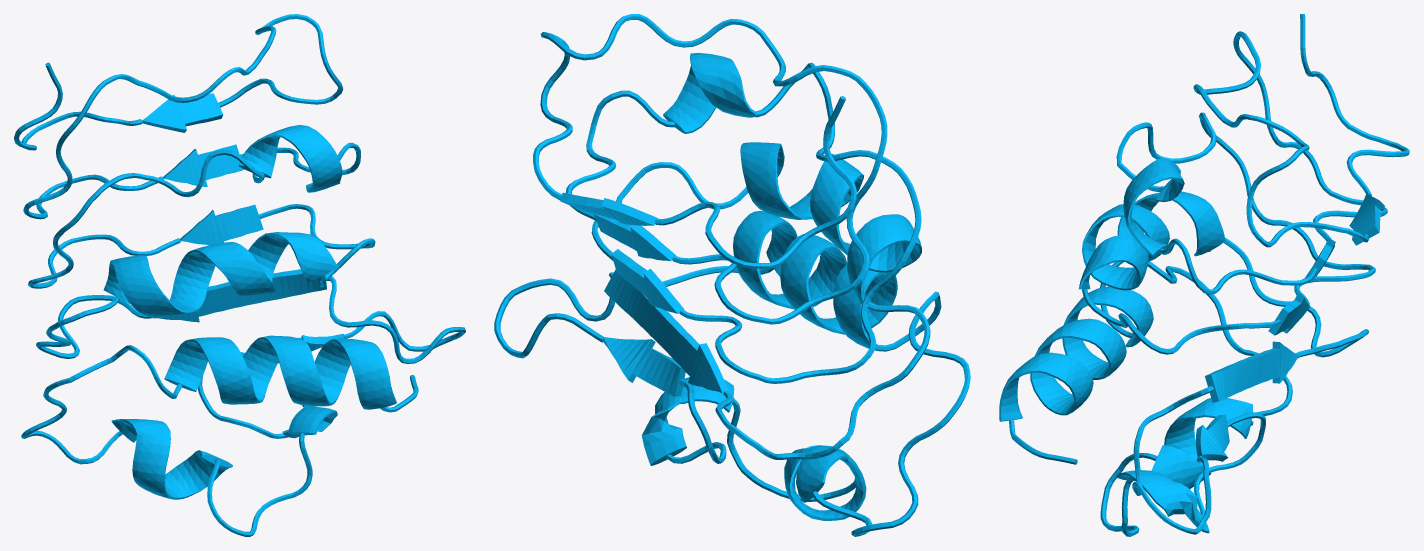
File: lrr.glb
3 renders of one model, left to right at view 1: azimuth 30°, elevation 25°; view 2: azimuth 150°, elevation 25°; view 3: azimuth 270°, elevation 25°, orthographic. The views are drawn at different scales.
Parts seen in each view (by area): view 1: Node; view 2: Node; view 3: Node.
Part boxes in pixels (x1,y1,x2,y2): Node: (14,14,465,536); Node: (494,14,970,536); Node: (999,14,1409,536).
Size of the model in its own units: 34.75 by 35.88 by 29.01.
